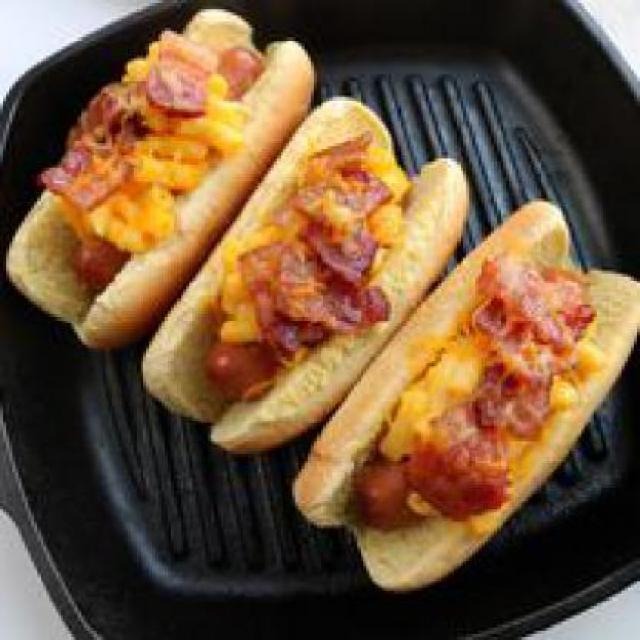hot dog: (345, 444, 432, 534), (196, 316, 276, 401), (59, 220, 124, 286), (205, 28, 264, 87)
macaroni and cheese: (388, 267, 584, 482), (59, 34, 227, 246), (220, 140, 398, 335)
